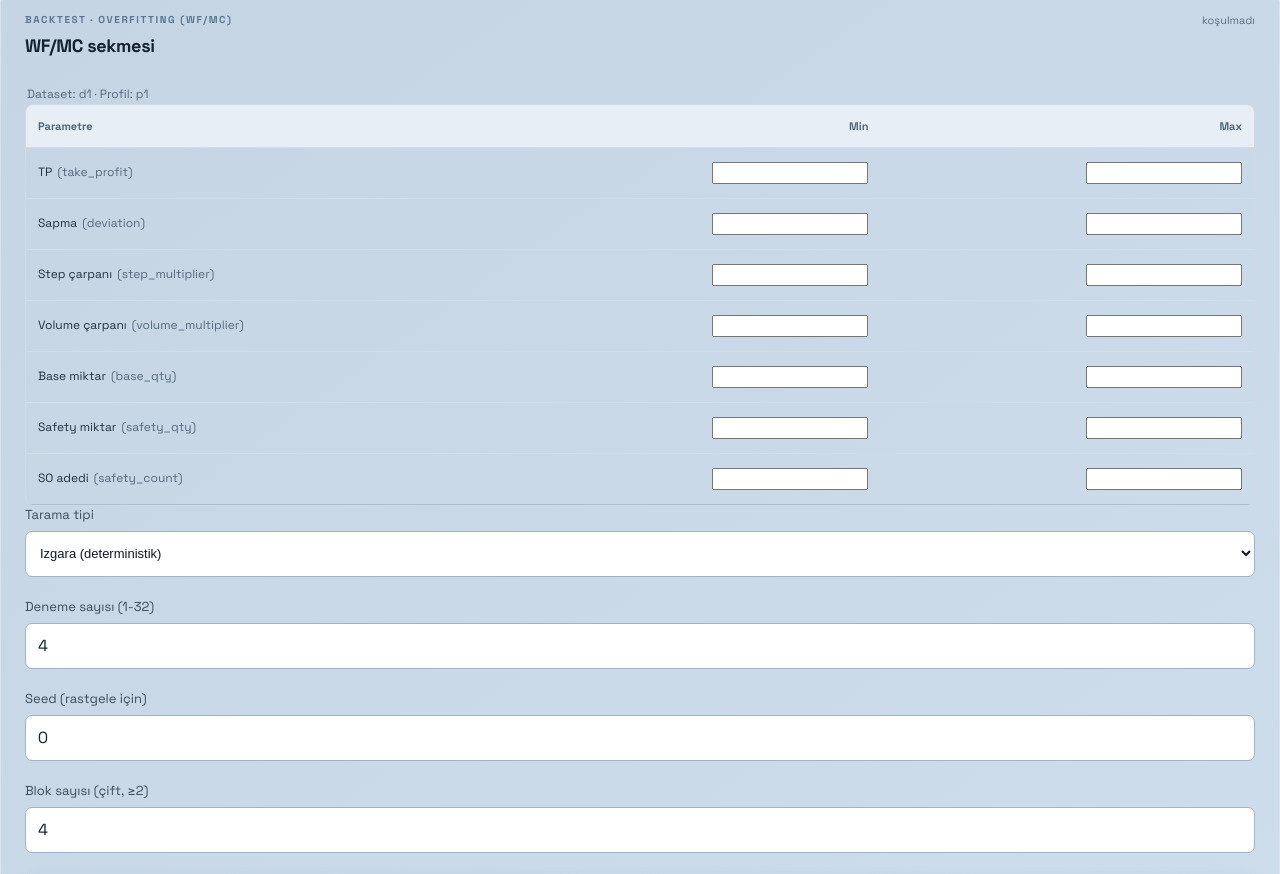
Test: AA.7c overfitting sekmesi › tek blok sayısı POST'lamaz
This screenshot has width=1280, height=874.
Step 1. Type "0.01" into the field named "TP min" → (790, 173), box [712, 162, 868, 184]
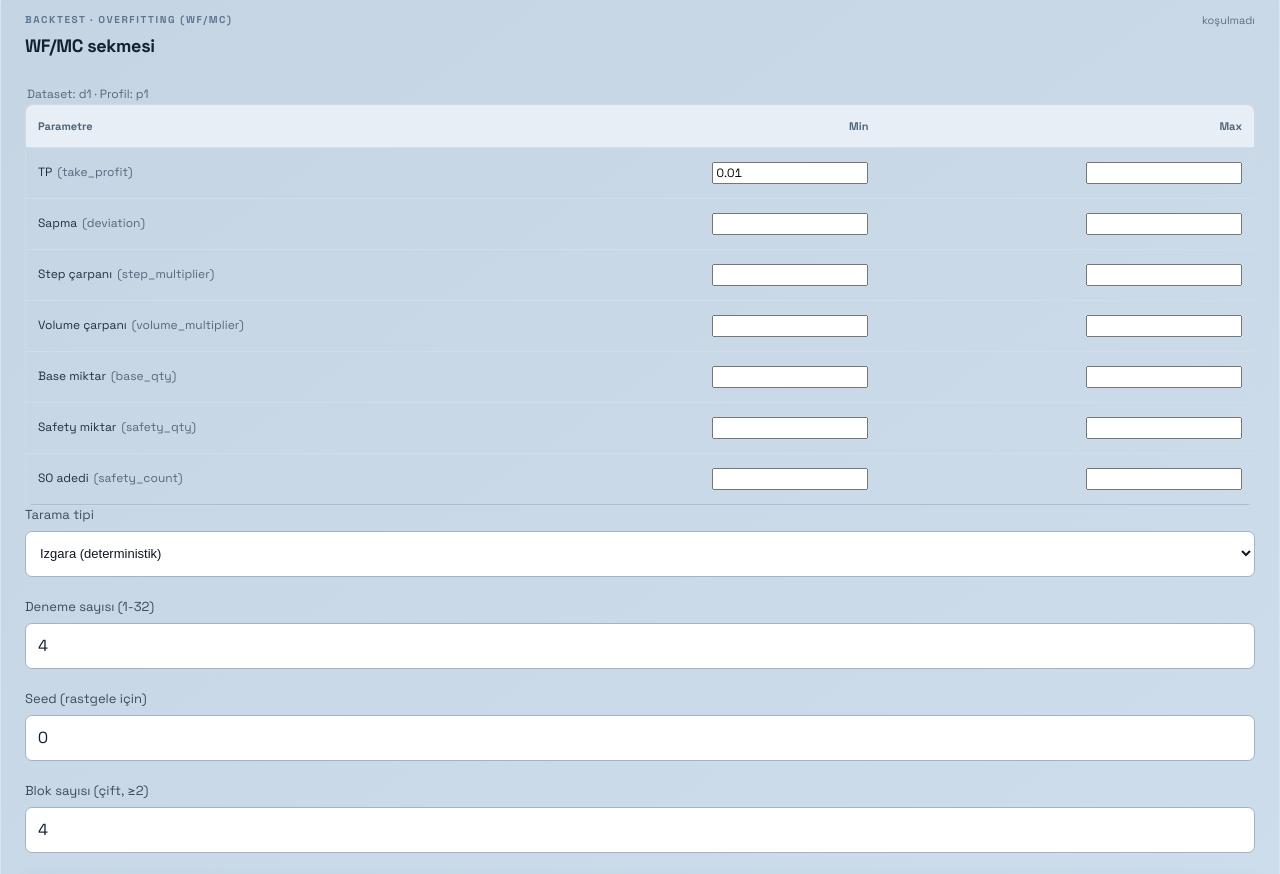
Step 2. Type "0.05" into the field named "TP max" → (1164, 173), box [1086, 162, 1242, 184]
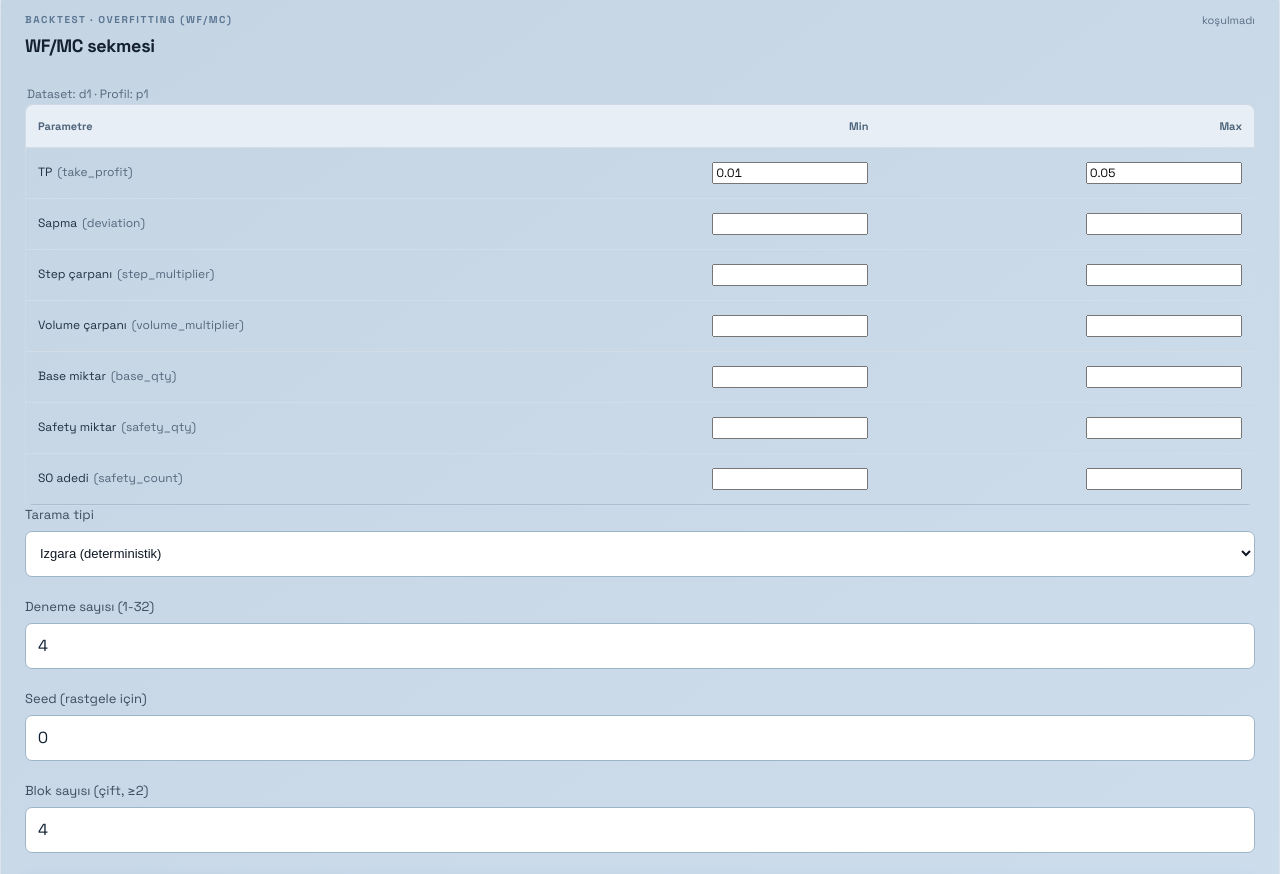
Step 3. Replace the text in the field labelled "Blok sayısı (çift, ≥2)" with "3" → (640, 830), box [26, 808, 1254, 851]
(page scrolled)
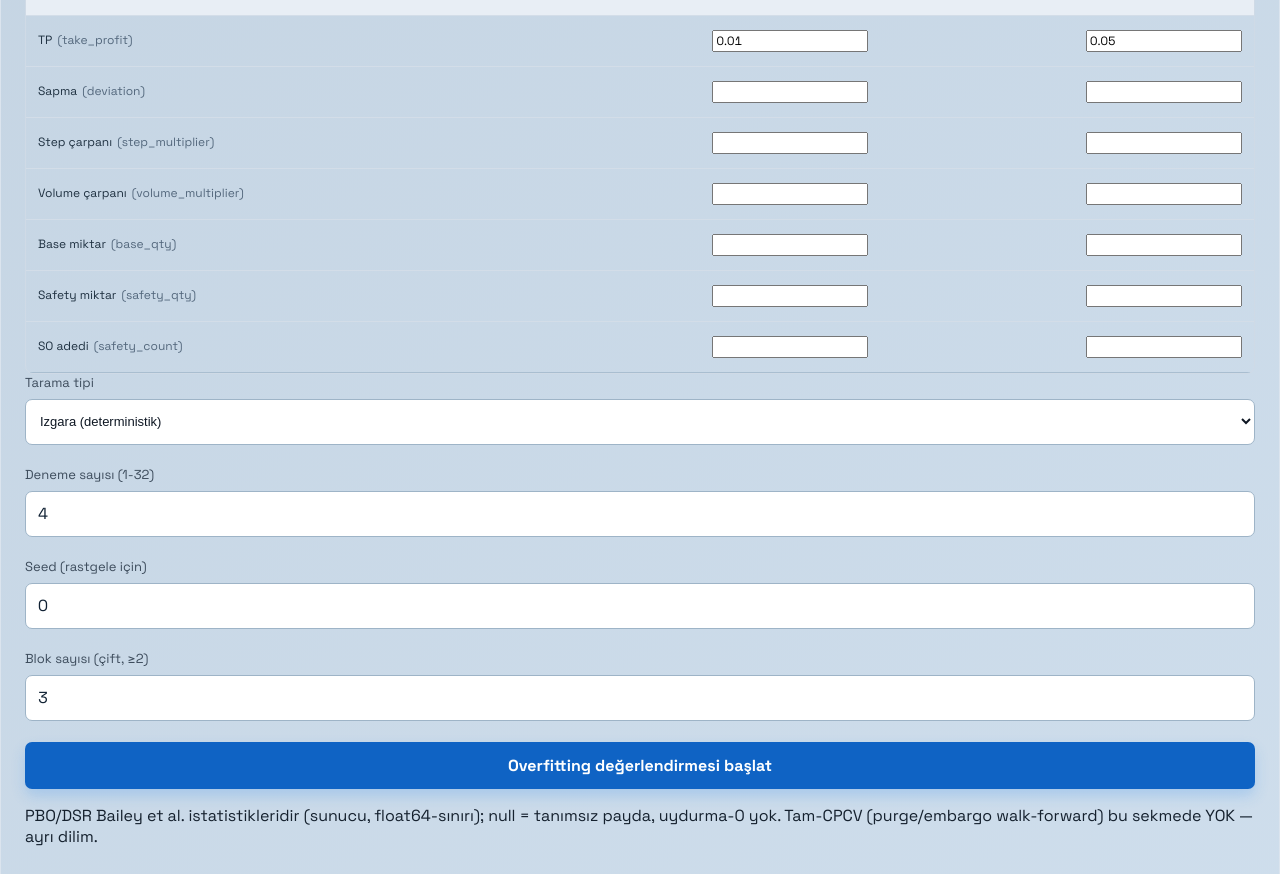
Step 4. Click the button "Overfitting değerlendirmesi başlat" → (640, 765), box [25, 742, 1255, 789]
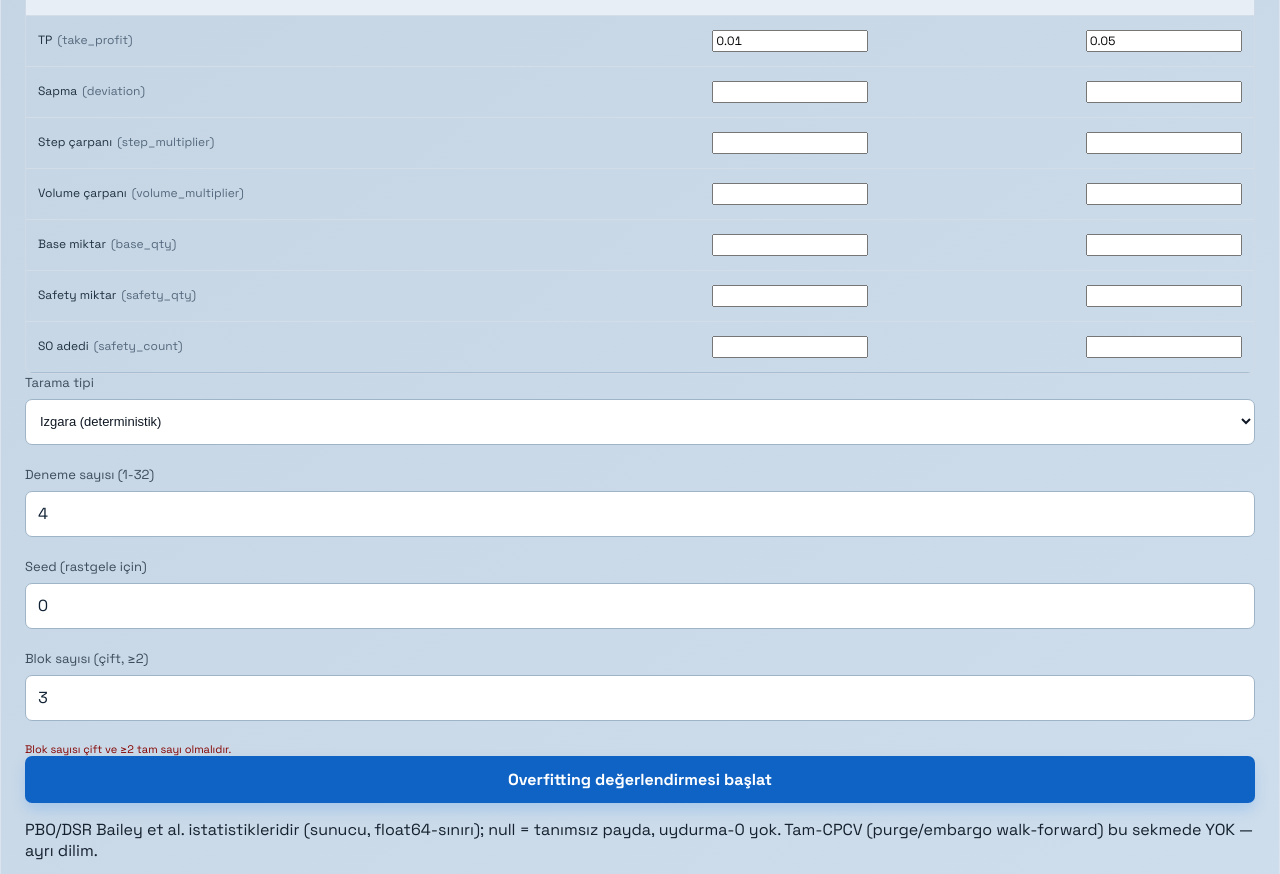
Expected: the message shows "çift", [25, 742, 231, 756]
